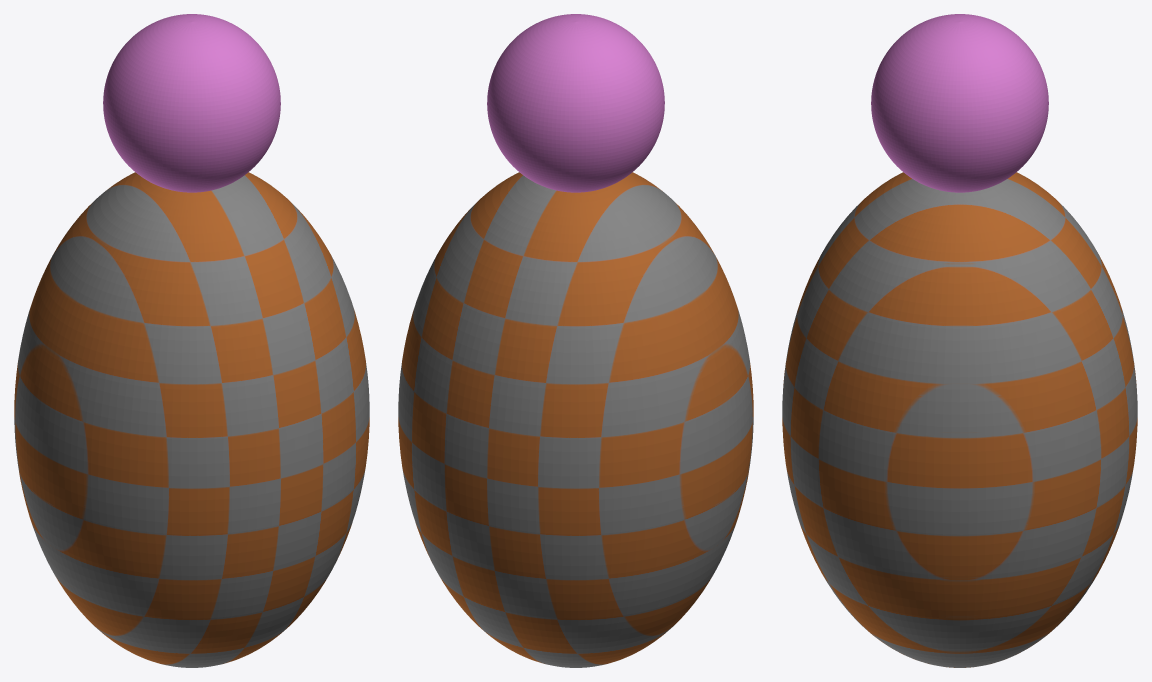
Rendered from BOD2_BMC3_BCC0_BPT4_FRC0_HEA0_HMC10_HCC0_HPT0_ELT0_ERT0_ELL0_ERL0_AP0_AAL0_AAR0_BEK0.fbx.
3 renders of one model, left to right at view 1: azimuth 30°, elevation 25°; view 2: azimuth 150°, elevation 25°; view 3: azimuth 270°, elevation 25°, orthographic.
Visible parts, largest first — view 1: Body, Head; view 2: Body, Head; view 3: Body, Head.
Part boxes in pixels (x1,y1,x2,y2): Body: (14,172,369,667); Head: (103,14,280,192); Body: (398,172,753,667); Head: (487,14,664,192); Body: (782,172,1137,667); Head: (871,14,1048,192).
Bounding box in the file's own units: 98.72 × 195 × 98.72.
Materials: 2 (2 with a texture image).
